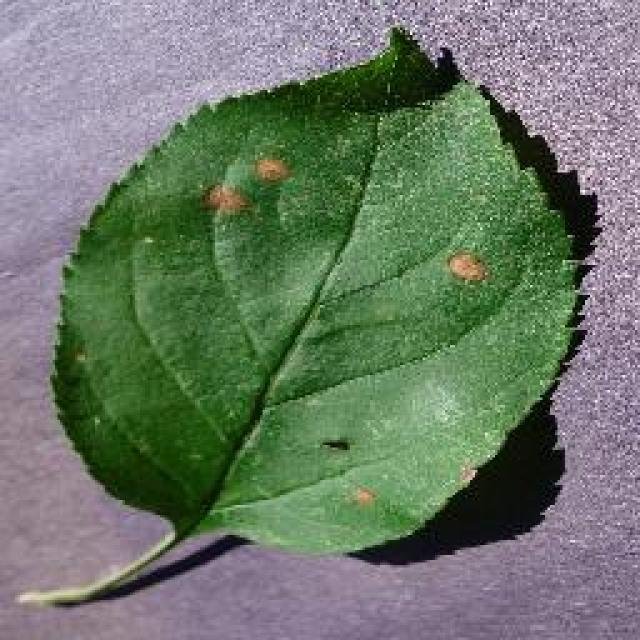apple black rot: (25, 22, 603, 602)
